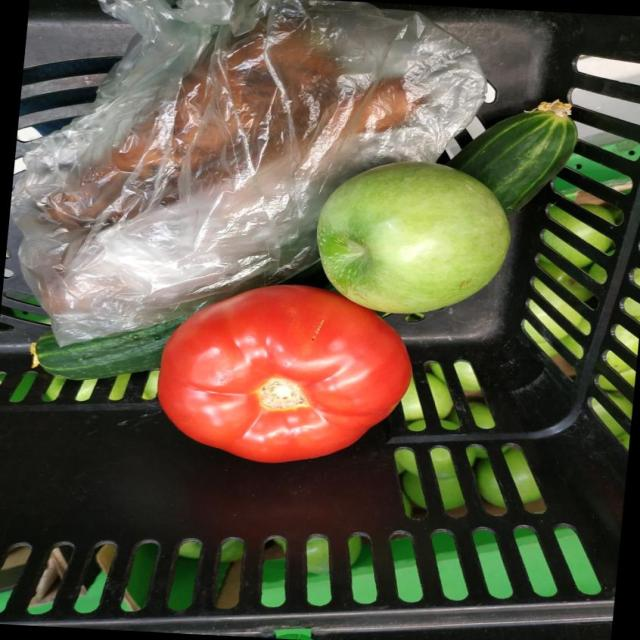apple: (167, 149, 553, 460)
cucumber: (244, 91, 640, 305), (70, 187, 229, 552)
tomato: (169, 145, 463, 431)
